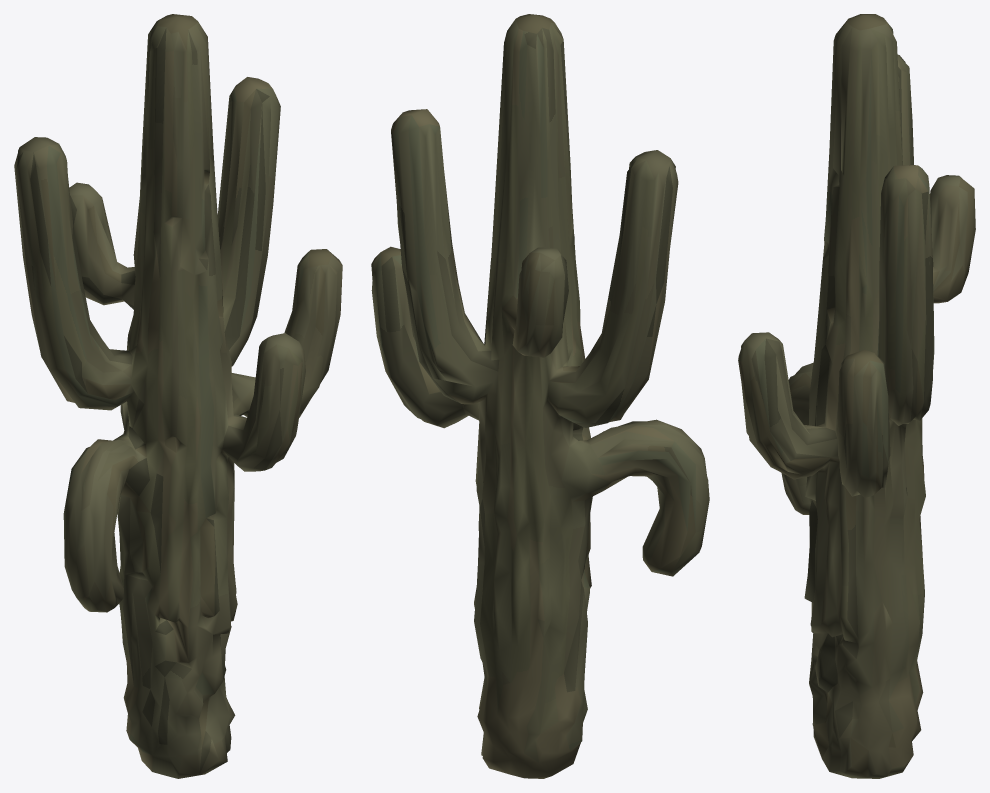
The model's file is saguaro_giant.glb.
The picture shows the model from 3 angles, left to right: view 1: azimuth 30°, elevation 25°; view 2: azimuth 150°, elevation 25°; view 3: azimuth 270°, elevation 25°; orthographic projection.
Parts seen in each view (by area): view 1: LO.001; view 2: LO.001; view 3: LO.001.
Part boxes in pixels (x1,y1,x2,y2): LO.001: [14, 14, 342, 778]; LO.001: [371, 14, 709, 778]; LO.001: [738, 14, 975, 778].
Size of the model in its own units: 5.19 by 12.01 by 3.43.
1 material, 1 textured.
